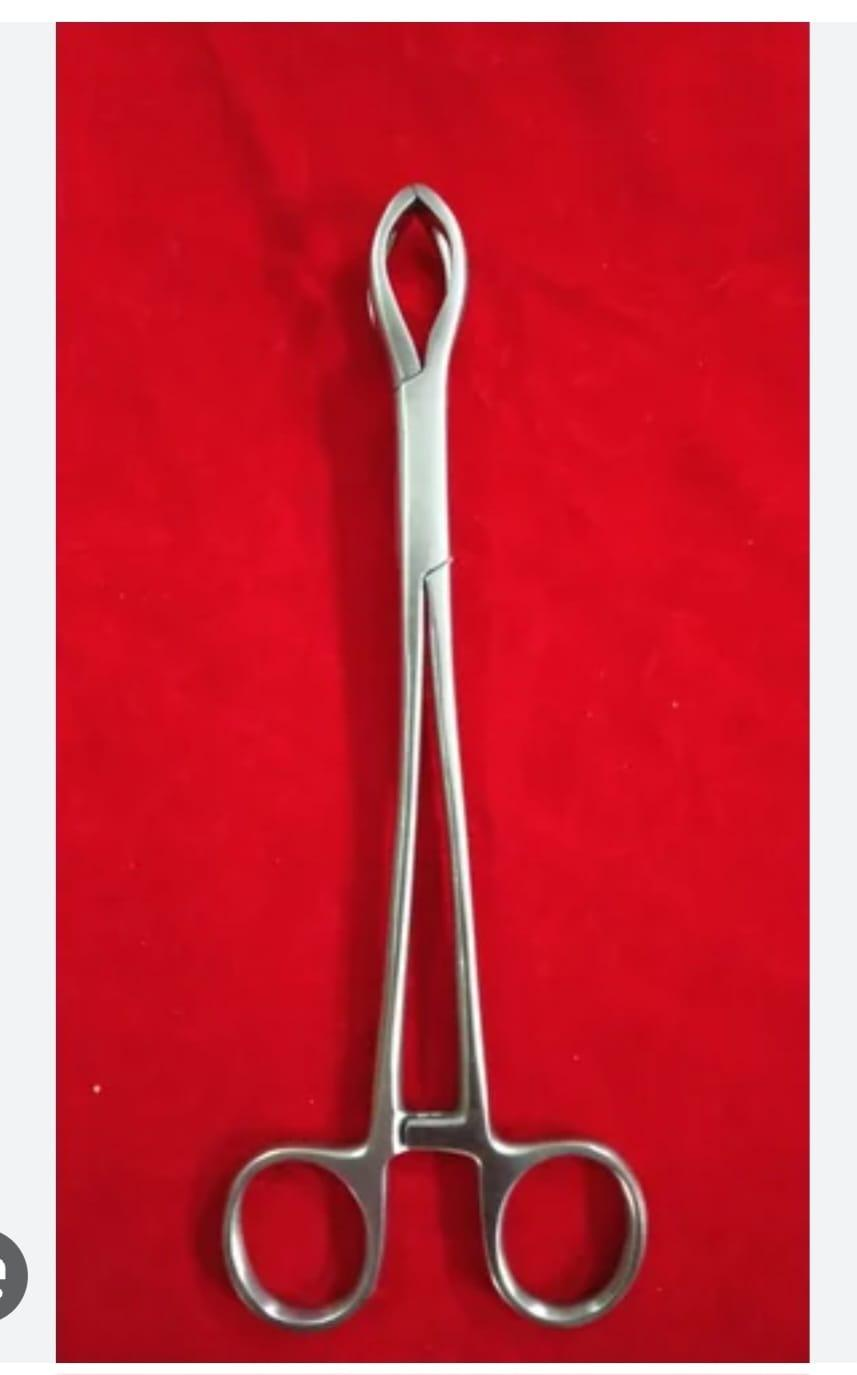Lane Tissue Forceps: (212, 152, 670, 1338)
